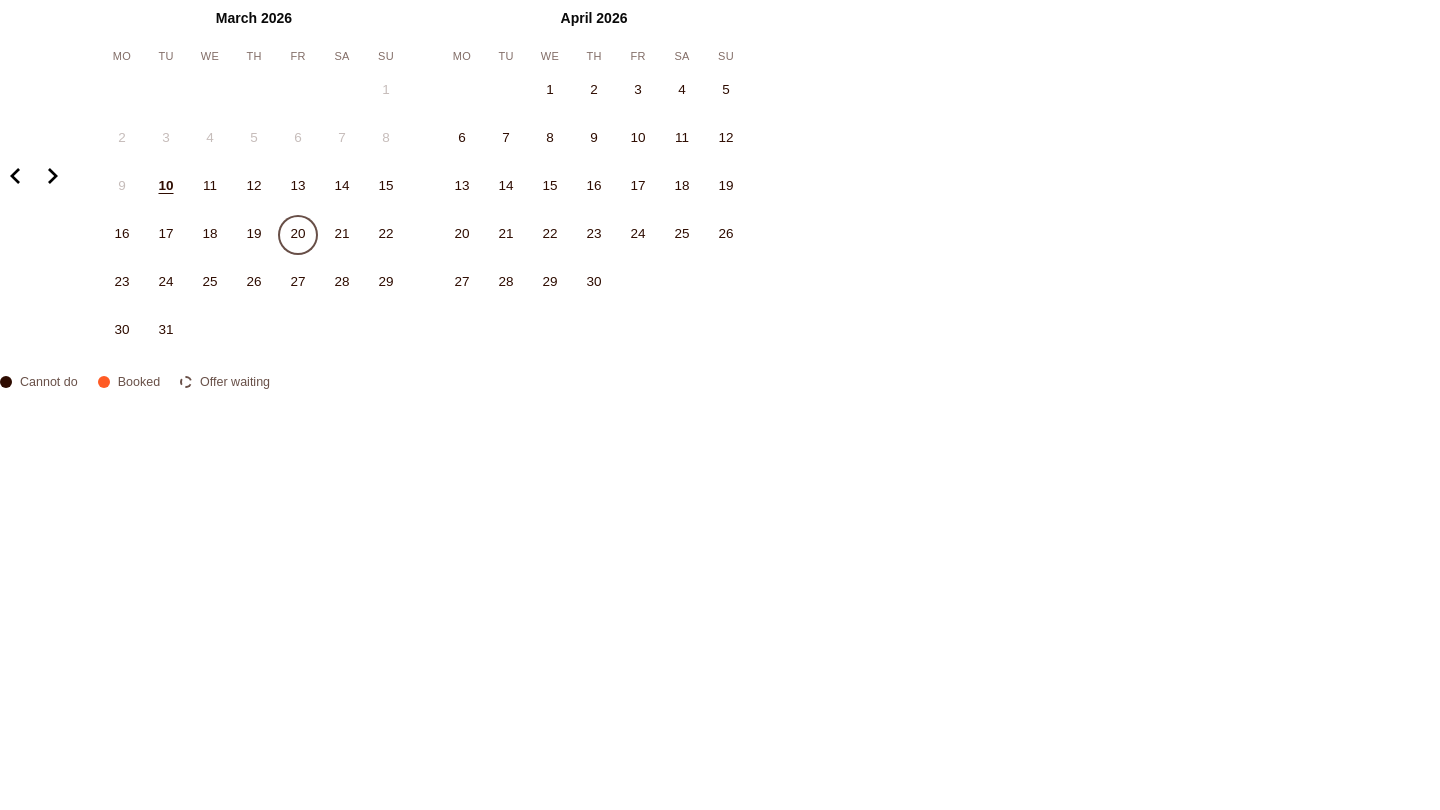
the unavailable-dates calendar › keeps the offer when the comedian backs out of the dialog
This screenshot has width=1440, height=810.
Click the button "20" below "March 2026".
click(298, 234)  # box [278,214,318,254]
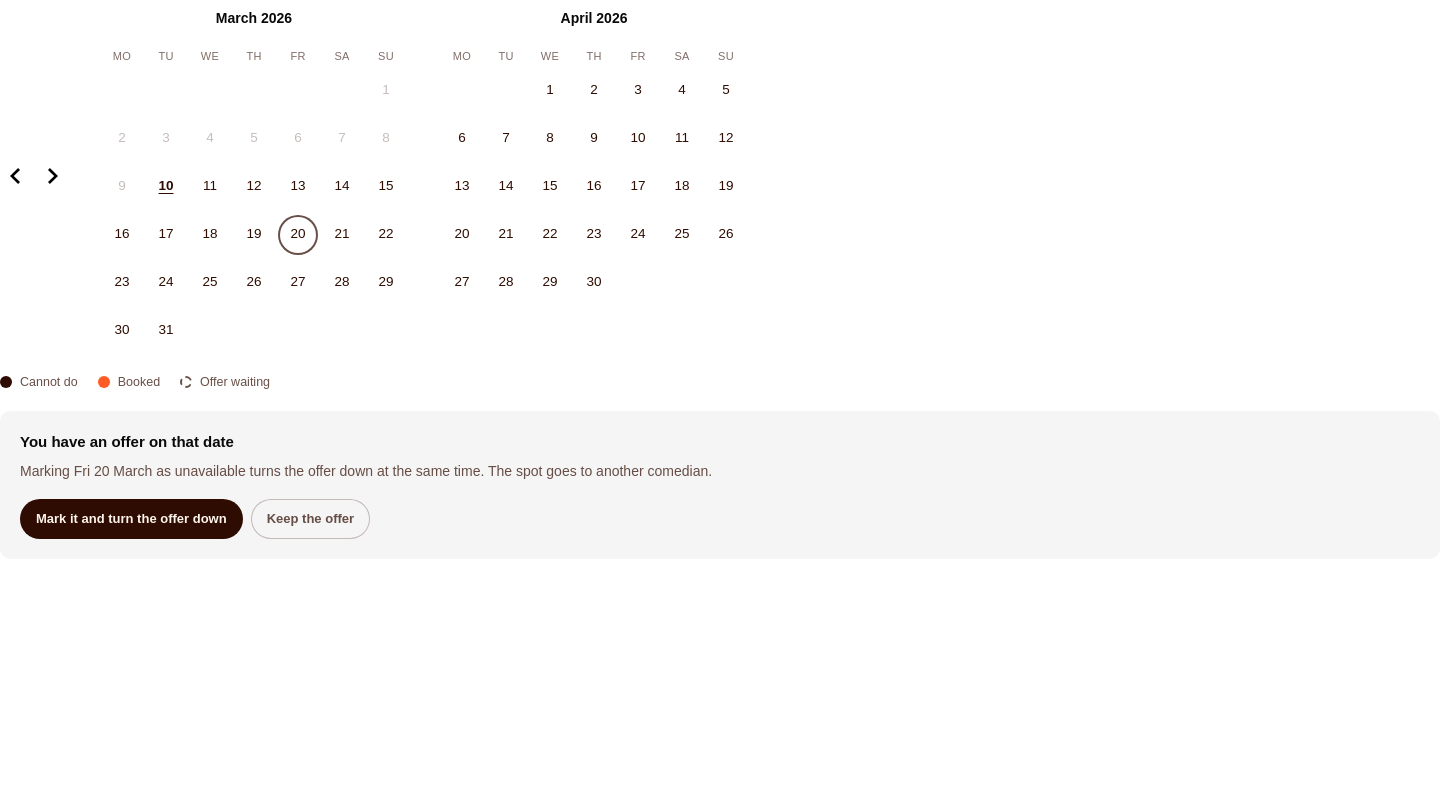
Result: the dialog is shown at [0,411,1439,559]
Click the button "Keep the offer".
click(310, 518)  # box [251,498,370,538]
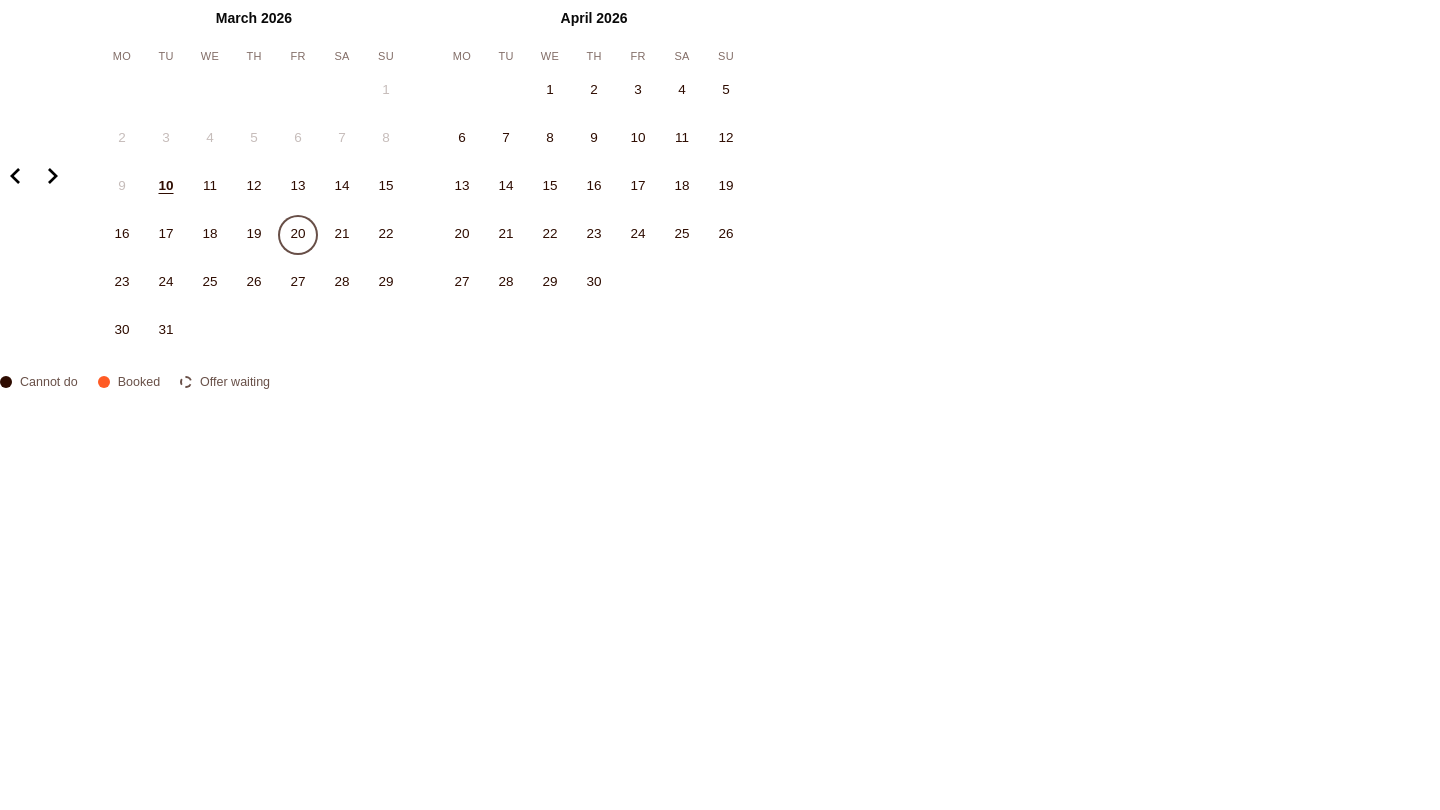
Result: the dialog is gone
